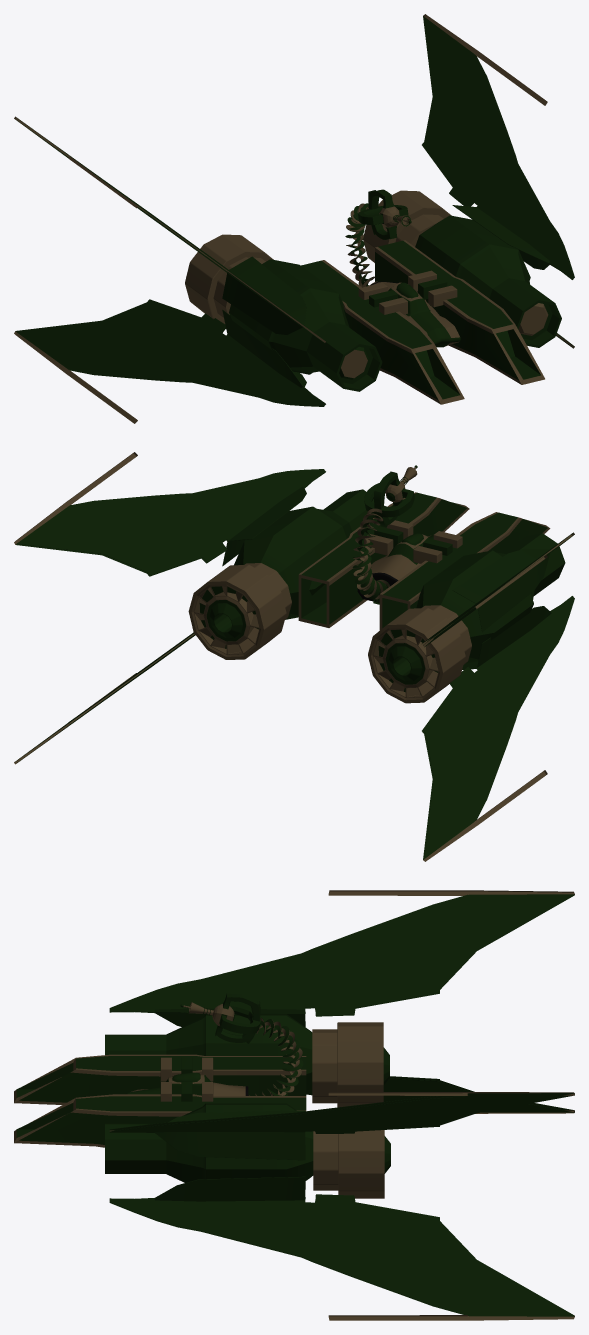
File: DND_Jaxxus.fbx
The picture shows the model from 3 angles, top to bottom: view 1: azimuth 30°, elevation 25°; view 2: azimuth 150°, elevation 25°; view 3: azimuth 270°, elevation 25°; orthographic projection.
Parts seen in each view (by area): view 1: M3_WingRight_01, M3_WingLeft_01, M3_JetEngineRight, M3_JetEngineLeft, M3_VaccumLeft, M3_VaccumRight, M3_WingRight_02, M3_JetExhaustRight, M3_JetExhaustLeft, M3_Base, M3_TetherBeam, M_GrapplingHookHelix; view 2: M3_WingLeft_01, M3_WingRight_01, M3_JetExhaustLeft, M3_JetExhaustRight, M3_JetEngineLeft, M3_VaccumLeft, M3_JetEngineRight, M3_VaccumRight, M3_WingRight_02, M3_TetherBeam, M3_Base, M_GrapplingHookHelix (+1 smaller); view 3: M3_WingLeft_02, M3_WingRight_02, M3_WingLeft_01, M3_VaccumRight, M3_JetEngineLeft, M3_VaccumLeft, M3_JetExhaustRight, M3_JetEngineRight, M3_JetExhaustLeft, M3_TetherBeam, M3_WingRight_01, M_GrapplingHookHelix (+1 smaller).
Part boxes in pixels (x1,y1,x2,y2): M3_WingRight_01: (14, 299, 325, 423); M3_WingLeft_01: (422, 14, 574, 279); M3_JetEngineRight: (229, 259, 382, 391); M3_JetEngineLeft: (415, 215, 561, 347); M3_VaccumLeft: (375, 240, 544, 384); M3_VaccumRight: (301, 260, 464, 404); M3_WingRight_02: (14, 116, 325, 343); M3_JetExhaustRight: (185, 234, 273, 328); M3_JetExhaustLeft: (363, 190, 451, 262); M3_Base: (370, 281, 460, 347); M3_TetherBeam: (358, 189, 411, 239); M_GrapplingHookHelix: (345, 203, 377, 287); M3_WingLeft_01: (14, 452, 325, 576); M3_WingRight_01: (422, 596, 574, 861); M3_JetExhaustLeft: (188, 563, 291, 659); M3_JetExhaustRight: (368, 605, 471, 703); M3_JetEngineLeft: (234, 489, 374, 619); M3_VaccumLeft: (298, 492, 469, 627); M3_JetEngineRight: (416, 533, 565, 663); M3_VaccumRight: (379, 512, 550, 630); M3_WingRight_02: (421, 532, 574, 647); M3_TetherBeam: (364, 465, 417, 527); M3_Base: (357, 533, 433, 602); M_GrapplingHookHelix: (352, 508, 390, 599); M3_WingLeft_02: (109, 1176, 574, 1320); M3_WingRight_02: (109, 890, 574, 1026); M3_WingLeft_01: (109, 1092, 574, 1160); M3_VaccumRight: (14, 1054, 306, 1104); M3_JetEngineLeft: (105, 1103, 313, 1182); M3_VaccumLeft: (14, 1094, 306, 1147); M3_JetExhaustRight: (312, 1022, 389, 1107); M3_JetEngineRight: (105, 1014, 312, 1091); M3_JetExhaustLeft: (313, 1130, 390, 1198); M3_TetherBeam: (180, 993, 260, 1043); M3_WingRight_01: (306, 1076, 574, 1113); M_GrapplingHookHelix: (249, 1017, 303, 1095).
Bounding box in the file's own units: 17.31 × 8.98 × 19.96.
